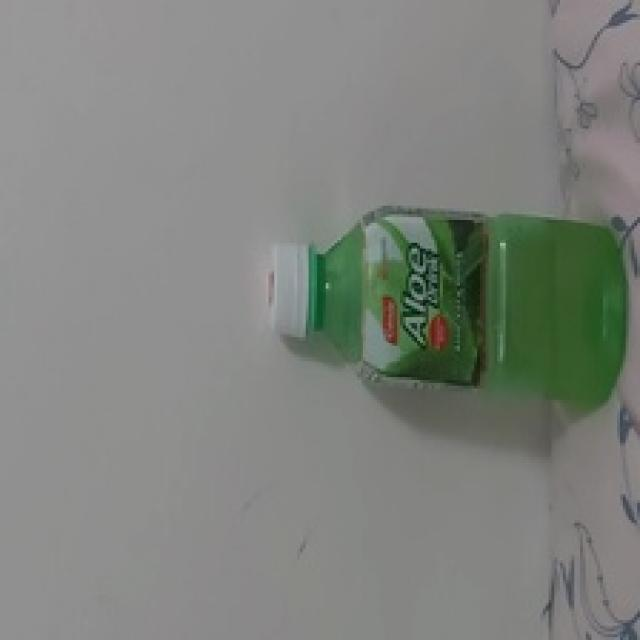Plastic: (270, 200, 628, 414)
